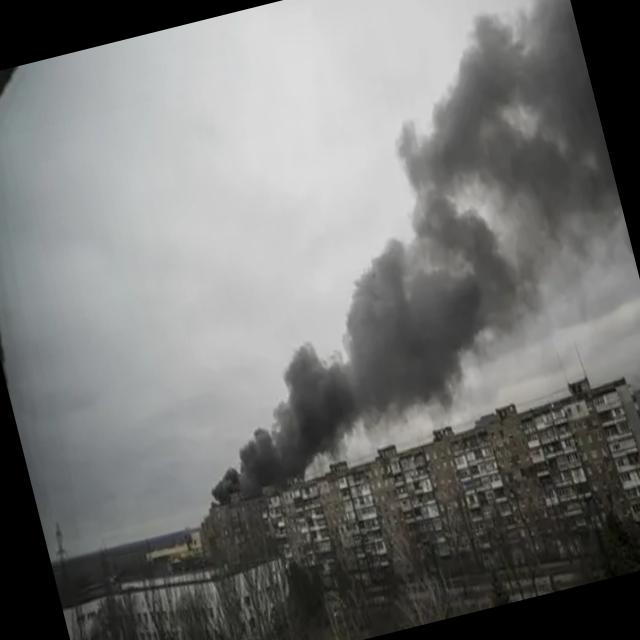Smoke: (164, 230, 526, 505)
